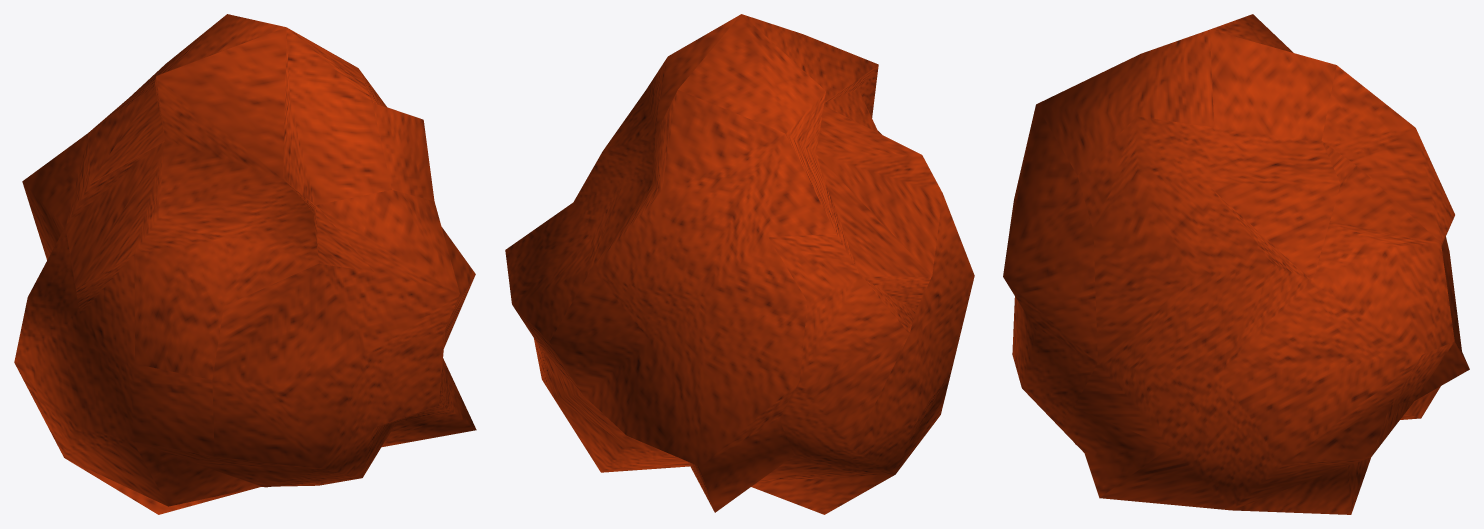
Rendered from meteorite-02.obj.
3 renders of one model, left to right at view 1: azimuth 30°, elevation 25°; view 2: azimuth 150°, elevation 25°; view 3: azimuth 270°, elevation 25°, orthographic. The views are drawn at different scales.
Parts seen in each view (by area): view 1: Cube.004_Cube.085; view 2: Cube.004_Cube.085; view 3: Cube.004_Cube.085.
Boxes of the visible parts, x1=… form: Cube.004_Cube.085: x1=14, y1=14, x2=476, y2=514; Cube.004_Cube.085: x1=505, y1=14, x2=974, y2=514; Cube.004_Cube.085: x1=1003, y1=14, x2=1469, y2=514.
Size of the model in its own units: 1.61 by 1.85 by 1.62.
1 material, 1 textured.
